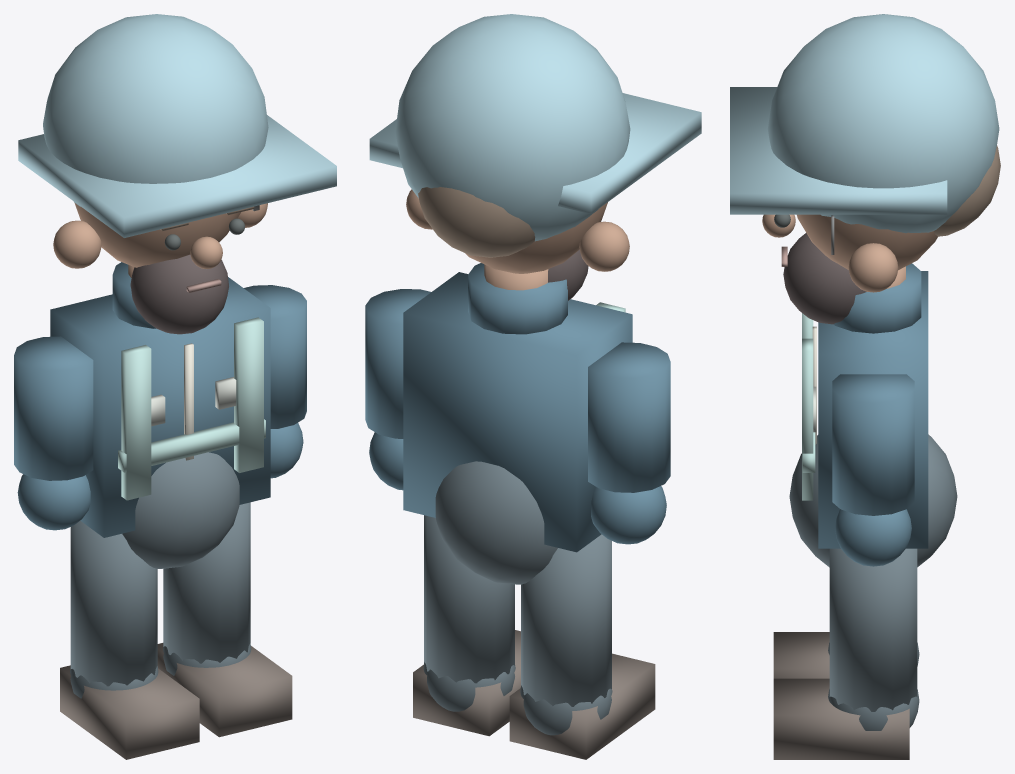
Rendered from mercy_person_02.glb.
3 renders of one model, left to right at view 1: azimuth 30°, elevation 25°; view 2: azimuth 150°, elevation 25°; view 3: azimuth 270°, elevation 25°, orthographic. The views are drawn at different scales.
Parts seen in each view (by area): view 1: SkinClothing_10, SkinClothing_0, Arm_Left, Leg_Left, SkinClothing_5, Leg_Right, SkinClothing_1, Boot_Left, Boot_Right, SkinClothing_2, Arm_Right, SkinClothing_9 (+2 smaller); view 2: SkinClothing_10, SkinClothing_0, Leg_Left, Arm_Left, Leg_Right, SkinClothing_1, Arm_Right, Boot_Left, SkinClothing_2, SkinClothing_7, Boot_Right, SkinClothing_9; view 3: SkinClothing_10, Arm_Right, SkinClothing_0, Leg_Right, Boot_Right, SkinClothing_2, SkinClothing_1, SkinClothing_9, Boot_Left, SkinClothing_5, SkinClothing_7.
Boxes of the visible parts, x1=… form: SkinClothing_10: x1=18, y1=14, x2=336, y2=237; SkinClothing_0: x1=50, y1=262, x2=270, y2=537; Arm_Left: x1=14, y1=336, x2=93, y2=530; Leg_Left: x1=70, y1=520, x2=158, y2=698; SkinClothing_5: x1=118, y1=317, x2=265, y2=500; Leg_Right: x1=163, y1=502, x2=251, y2=675; SkinClothing_1: x1=122, y1=452, x2=239, y2=568; Boot_Left: x1=60, y1=665, x2=199, y2=759; Boot_Right: x1=157, y1=643, x2=292, y2=737; SkinClothing_2: x1=53, y1=203, x2=267, y2=277; Arm_Right: x1=244, y1=285, x2=306, y2=478; SkinClothing_9: x1=130, y1=254, x2=228, y2=334; SkinClothing_10: x1=369, y1=14, x2=701, y2=241; SkinClothing_0: x1=403, y1=263, x2=632, y2=552; Leg_Left: x1=520, y1=534, x2=612, y2=735; Arm_Left: x1=588, y1=342, x2=670, y2=544; Leg_Right: x1=423, y1=515, x2=515, y2=711; SkinClothing_1: x1=435, y1=461, x2=557, y2=584; Arm_Right: x1=365, y1=289, x2=430, y2=490; Boot_Left: x1=509, y1=653, x2=655, y2=759; SkinClothing_2: x1=406, y1=189, x2=629, y2=290; SkinClothing_7: x1=418, y1=187, x2=535, y2=257; Boot_Right: x1=413, y1=630, x2=520, y2=736; SkinClothing_9: x1=548, y1=250, x2=588, y2=300; SkinClothing_10: x1=730, y1=14, x2=999, y2=233; Arm_Right: x1=832, y1=374, x2=914, y2=566; SkinClothing_0: x1=818, y1=263, x2=928, y2=548; Leg_Right: x1=828, y1=548, x2=919, y2=730; Boot_Right: x1=773, y1=678, x2=909, y2=759; SkinClothing_2: x1=762, y1=214, x2=937, y2=292; SkinClothing_1: x1=789, y1=434, x2=957, y2=567; SkinClothing_9: x1=783, y1=233, x2=866, y2=324; Boot_Left: x1=773, y1=632, x2=829, y2=678; SkinClothing_5: x1=802, y1=313, x2=815, y2=500; SkinClothing_7: x1=934, y1=145, x2=1000, y2=236.
Bounding box in the file's own units: 1.06 × 2.44 × 0.8625.
